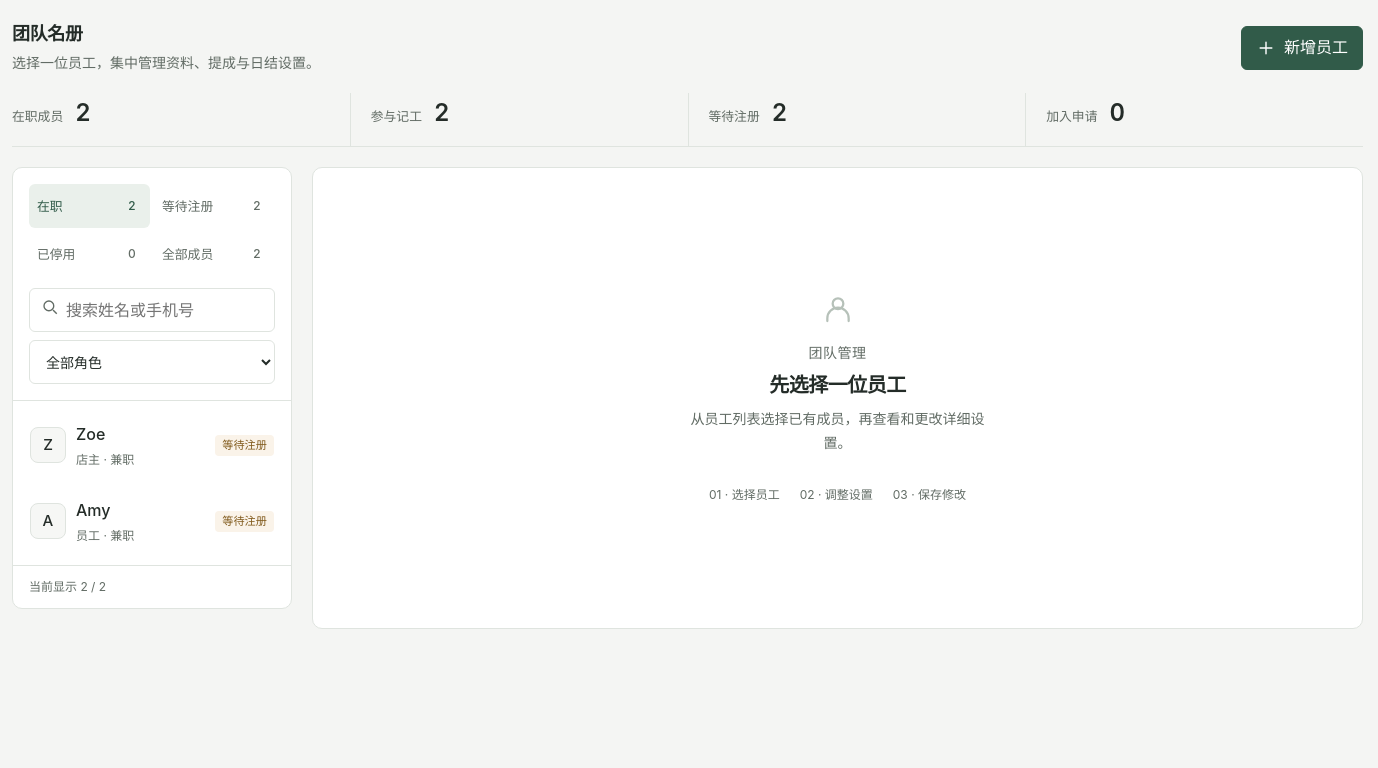
Test: employee-first member management › requires selection, shows the selected profile, and never writes on selection
Click the button "A Amy 员工 · 兼职 等待注册".
click(48, 521)  # box [19, 484, 285, 560]
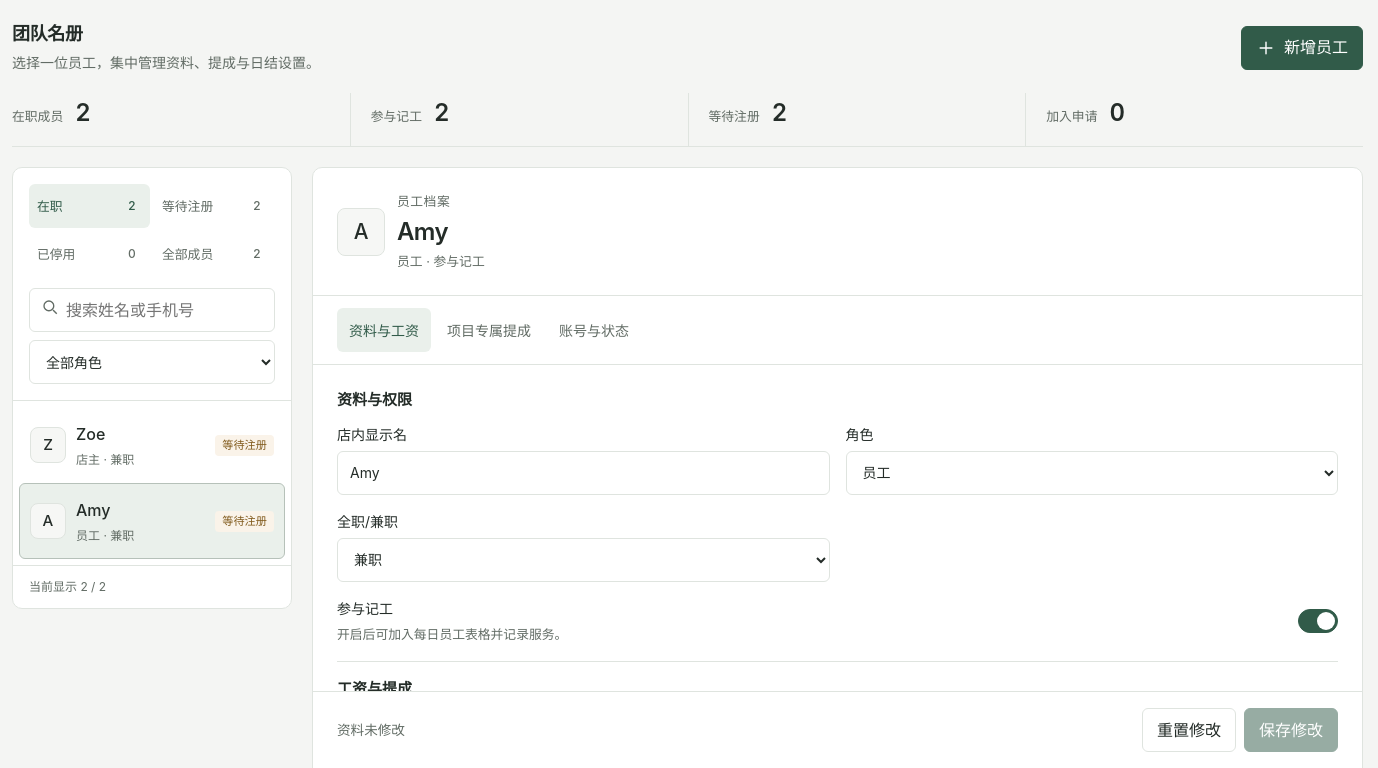
Expected: the field labelled "店内显示名" holds "Amy", [337, 451, 830, 495]
Expected: the heading "Amy" is shown, [397, 216, 448, 248]
Click the button "Z Zoe 店主 · 兼职 等待注册".
click(48, 445)  # box [19, 408, 285, 484]
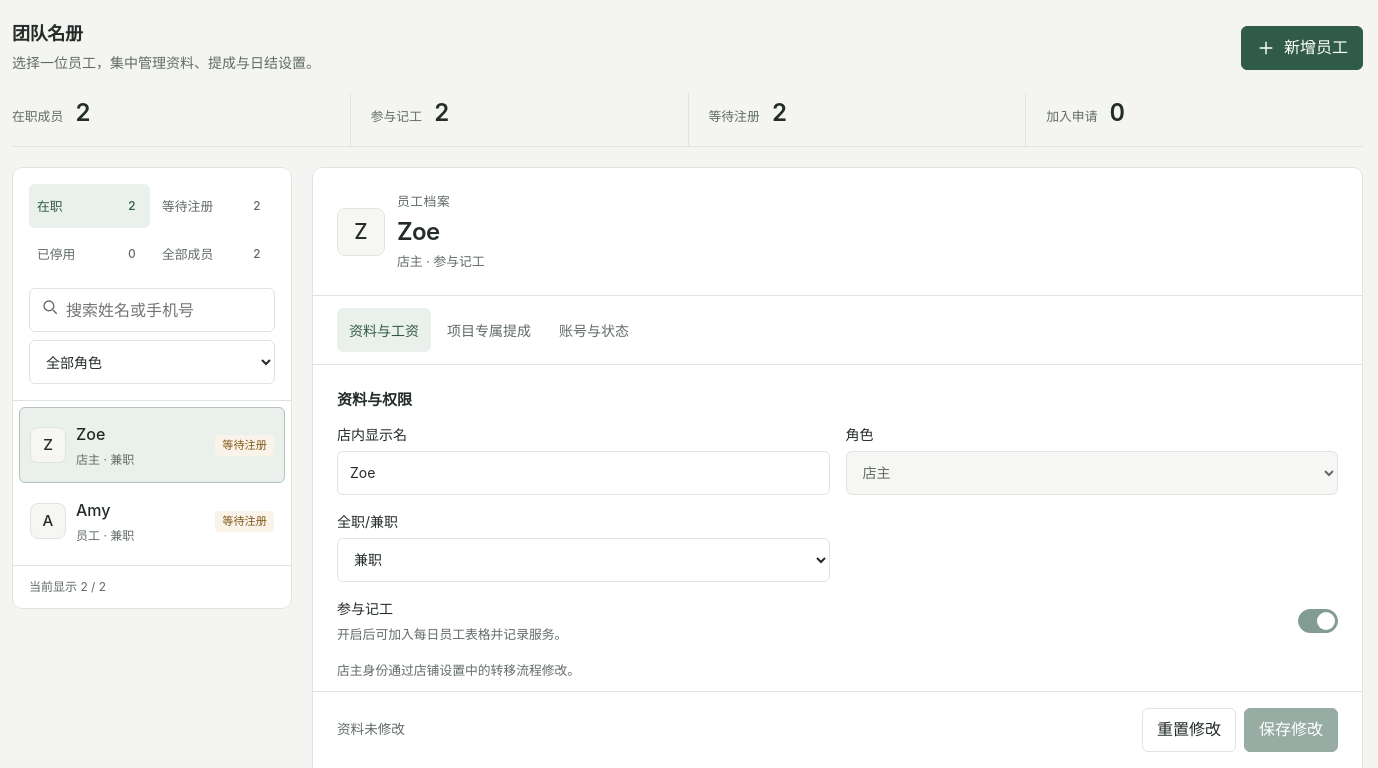
Expected: the field labelled "店内显示名" holds "Zoe", [337, 451, 830, 495]
Expected: the dropdown labelled "角色" is disabled, [846, 451, 1338, 495]
